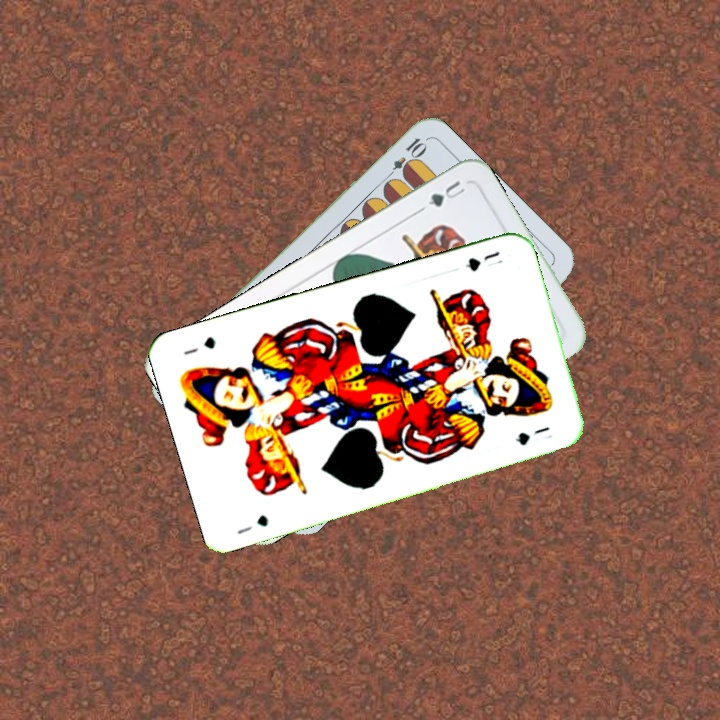E10: (381, 133, 429, 184)
GU: (416, 176, 468, 214), (461, 247, 502, 274), (233, 511, 271, 537)
